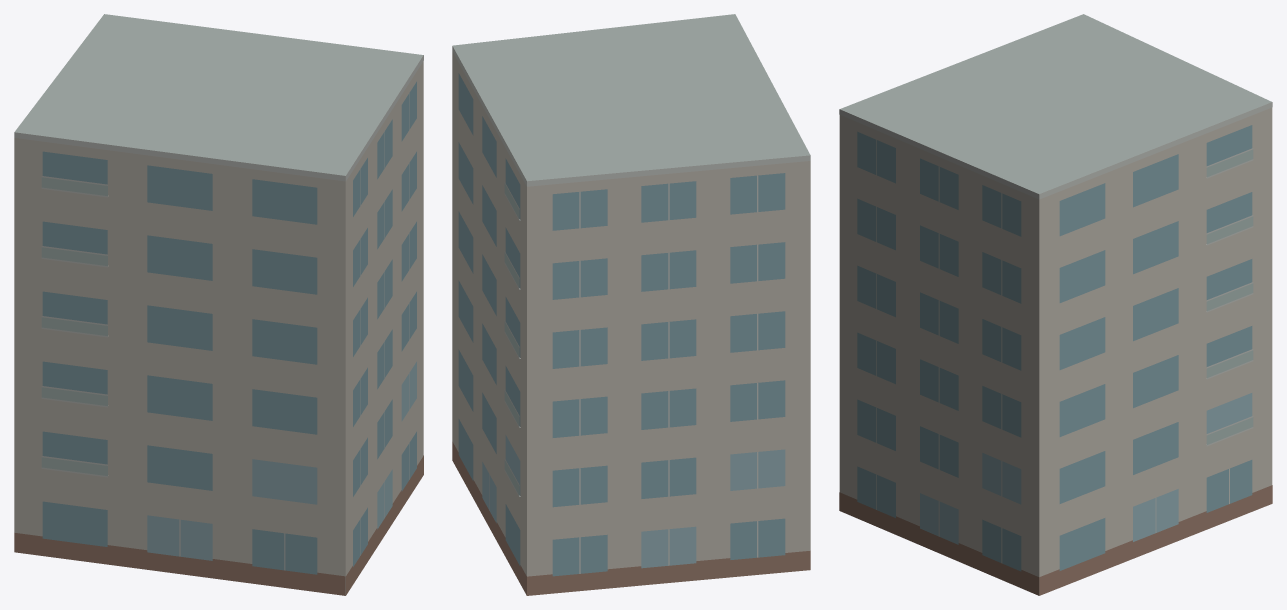
Rendered from survey-upis-32994843.glb.
The picture shows the model from 3 angles, left to right: view 1: azimuth 30°, elevation 25°; view 2: azimuth 150°, elevation 25°; view 3: azimuth 270°, elevation 25°; orthographic projection. The views are drawn at different scales.
Parts seen in each view (by area): view 1: survey-upis-32994843.tmp; view 2: survey-upis-32994843.tmp; view 3: survey-upis-32994843.tmp.
Boxes of the visible parts, bbox=[...] form: survey-upis-32994843.tmp: bbox=[14, 14, 423, 595]; survey-upis-32994843.tmp: bbox=[452, 14, 810, 595]; survey-upis-32994843.tmp: bbox=[839, 14, 1272, 595].
Bounding box in the file's own units: 17.62 × 18.3 × 17.88.
